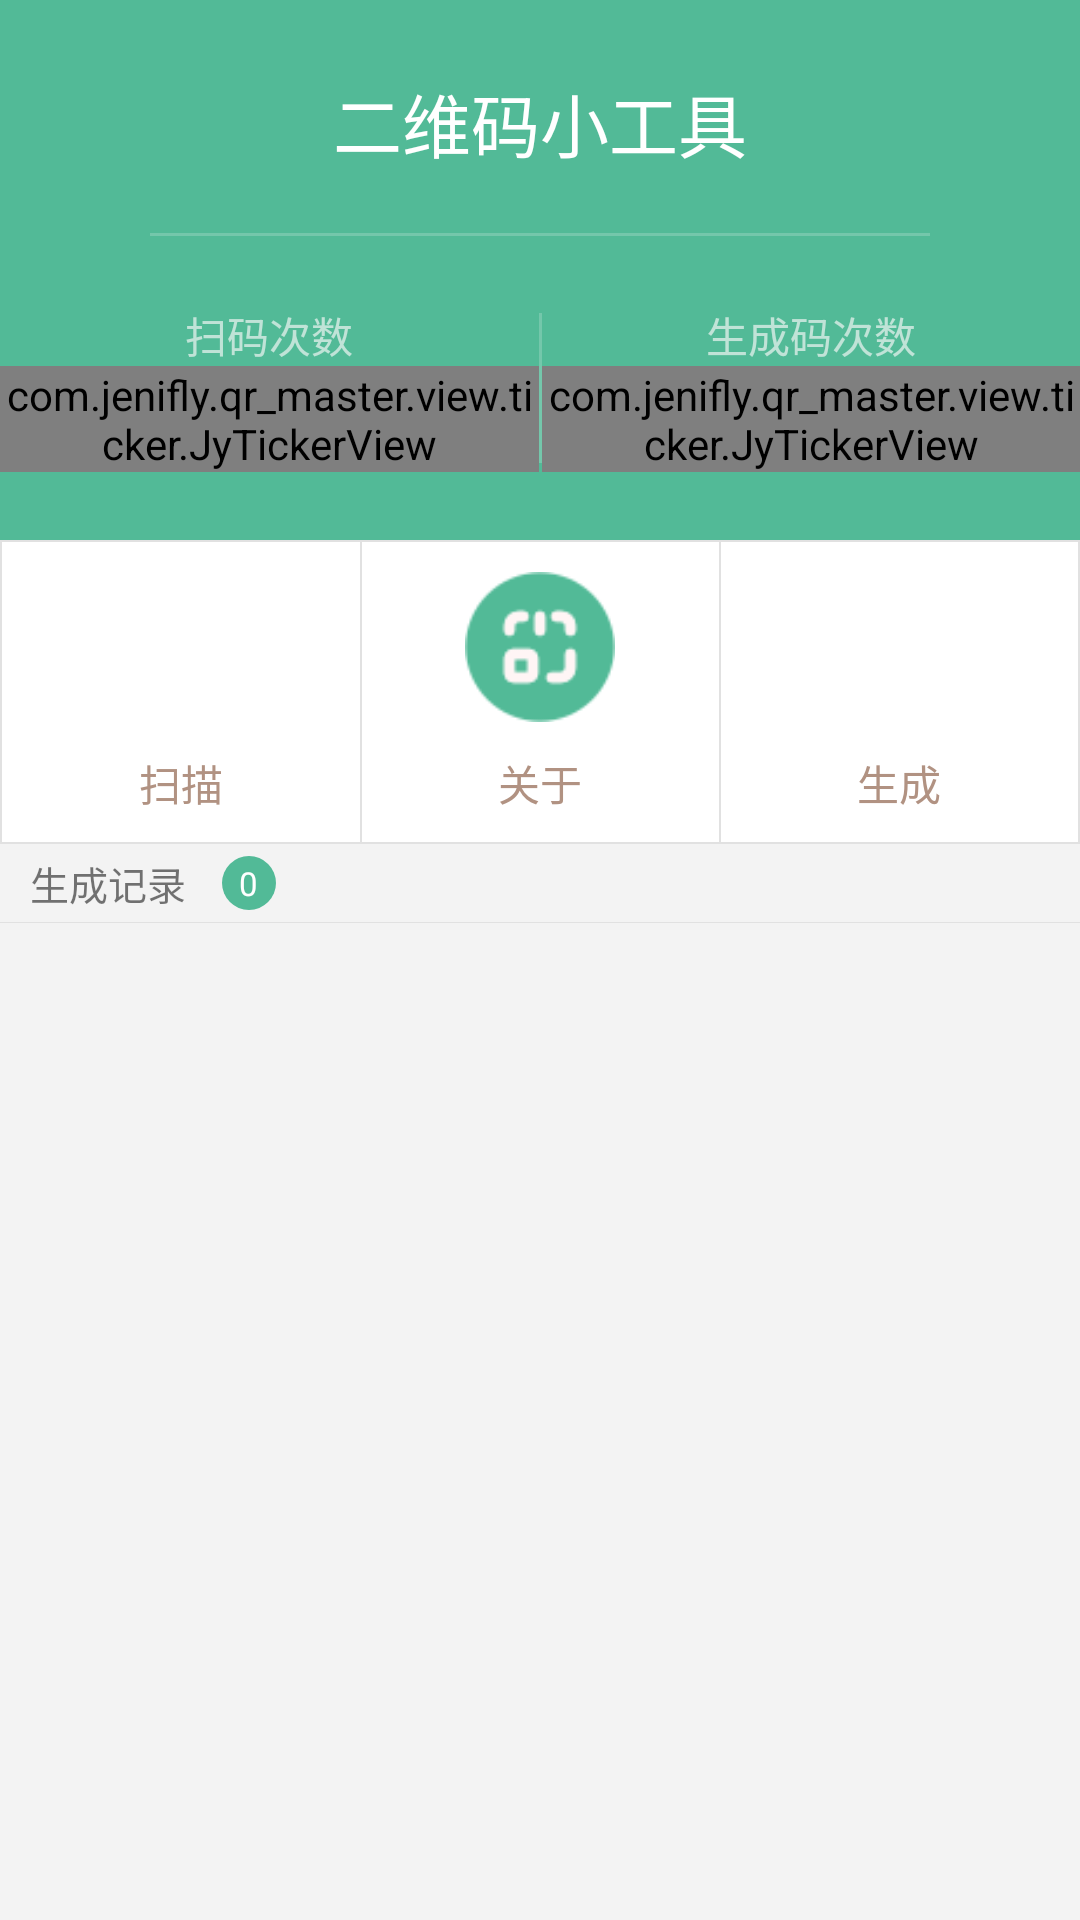

Named icons in this screenshot (1080px×1920px) and their centers, [x,y]:
app: [540,647]
